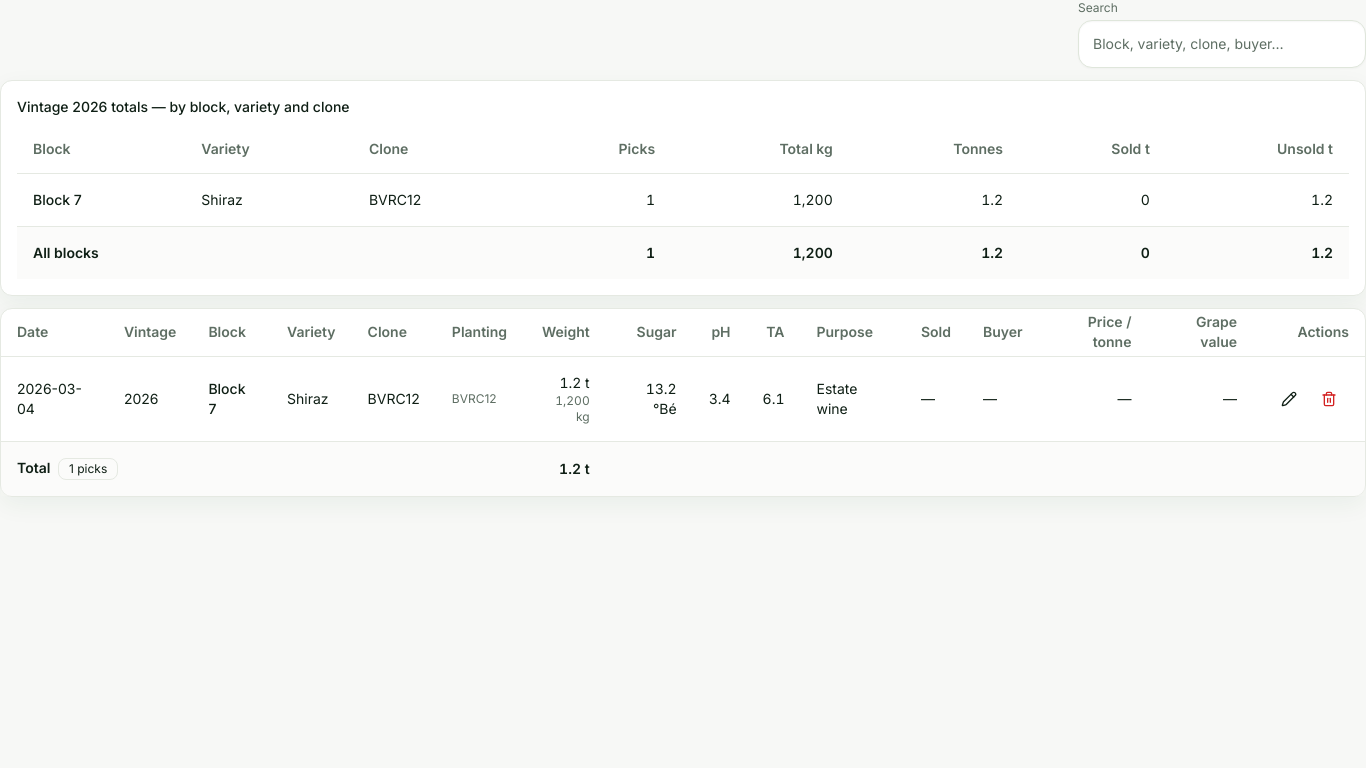
Test: Picking record editing › accepts sale details when an internal pick becomes sold
Later steps or results of the test are not shown.
Step 1. Click the button named "Edit picking record" → (1289, 399), box left=1269, top=379, right=1309, bottom=419
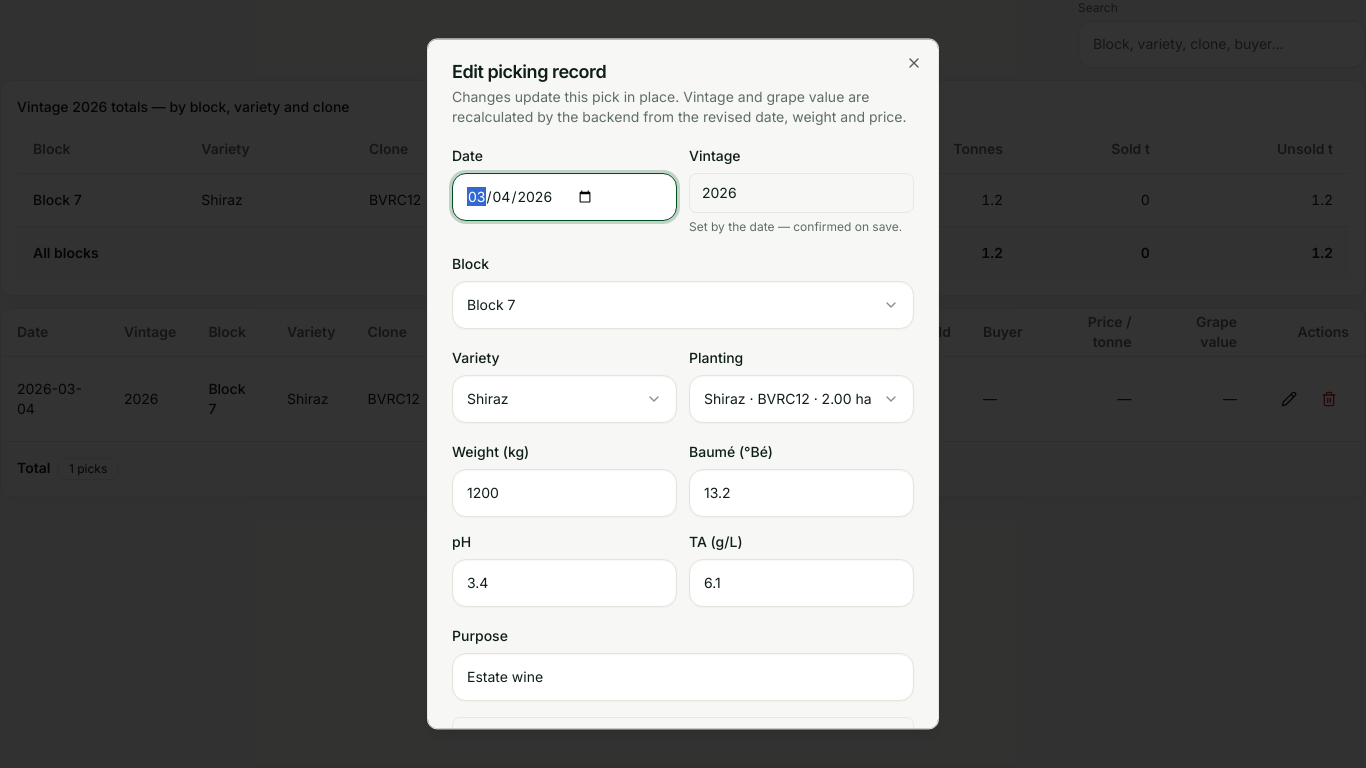
Expected: the heading "Edit picking record" is shown, left=452, top=61, right=606, bottom=82
